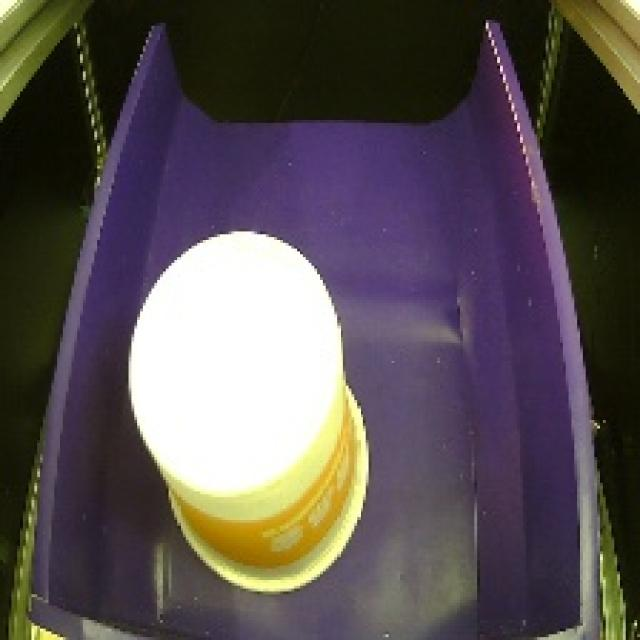cups: (112, 220, 380, 608)
